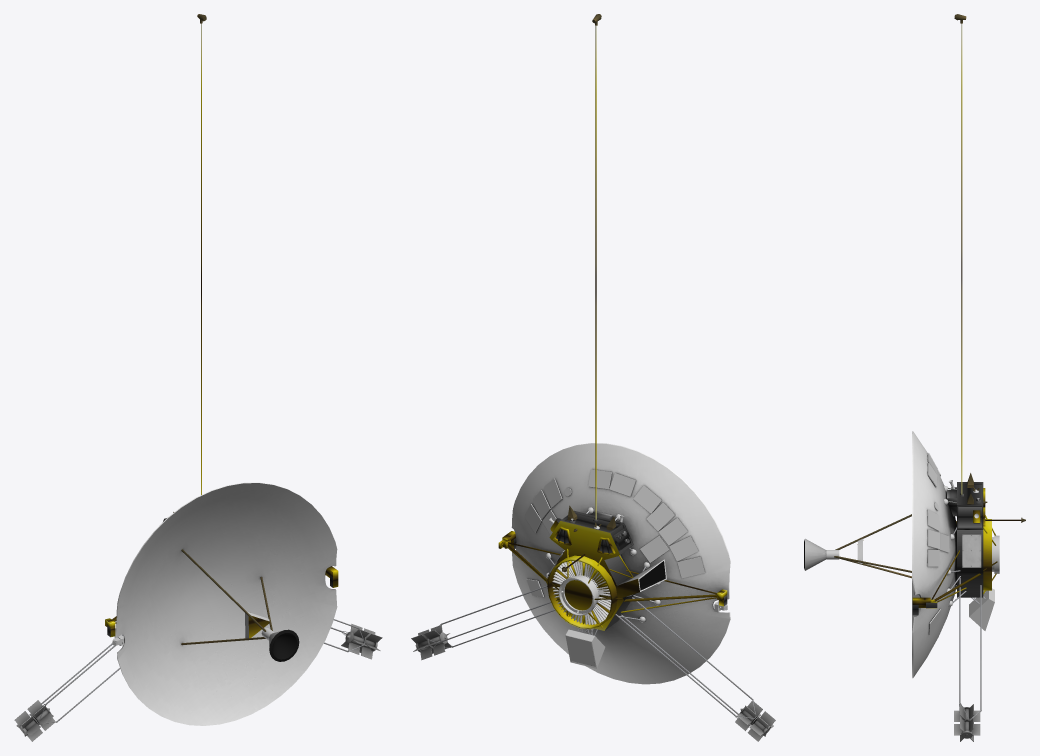
File: pioneer10.glb
The picture shows the model from 3 angles, left to right: view 1: azimuth 30°, elevation 25°; view 2: azimuth 150°, elevation 25°; view 3: azimuth 270°, elevation 25°; orthographic projection. The views are drawn at different scales.
Visible parts, largest first — view 1: high-gain-antenna, rtg; view 2: high-gain-antenna, main-body, meteoroid-detectors, rtg, particle-detectors, imaging-photopolarimeter, magnetometer-boom; view 3: high-gain-antenna, main-body, meteoroid-detectors, particle-detectors, rtg, magnetometer-boom.
Part boxes in pixels (x1=…): high-gain-antenna: x1=116, y1=482, x2=337, y2=725; rtg: x1=14, y1=619, x2=382, y2=741; high-gain-antenna: x1=498, y1=443, x2=730, y2=684; main-body: x1=507, y1=544, x2=635, y2=668; meteoroid-detectors: x1=507, y1=469, x2=716, y2=622; rtg: x1=411, y1=585, x2=775, y2=741; particle-detectors: x1=548, y1=505, x2=633, y2=559; imaging-photopolarimeter: x1=617, y1=555, x2=716, y2=601; magnetometer-boom: x1=592, y1=14, x2=601, y2=519; high-gain-antenna: x1=804, y1=431, x2=956, y2=678; main-body: x1=934, y1=515, x2=1025, y2=630; meteoroid-detectors: x1=927, y1=453, x2=966, y2=634; particle-detectors: x1=957, y1=473, x2=987, y2=528; rtg: x1=954, y1=578, x2=981, y2=741; magnetometer-boom: x1=954, y1=14, x2=966, y2=494.
Size of the model in its own units: 4.52 by 8.25 by 2.54.
Materials: 11 (8 with a texture image).
